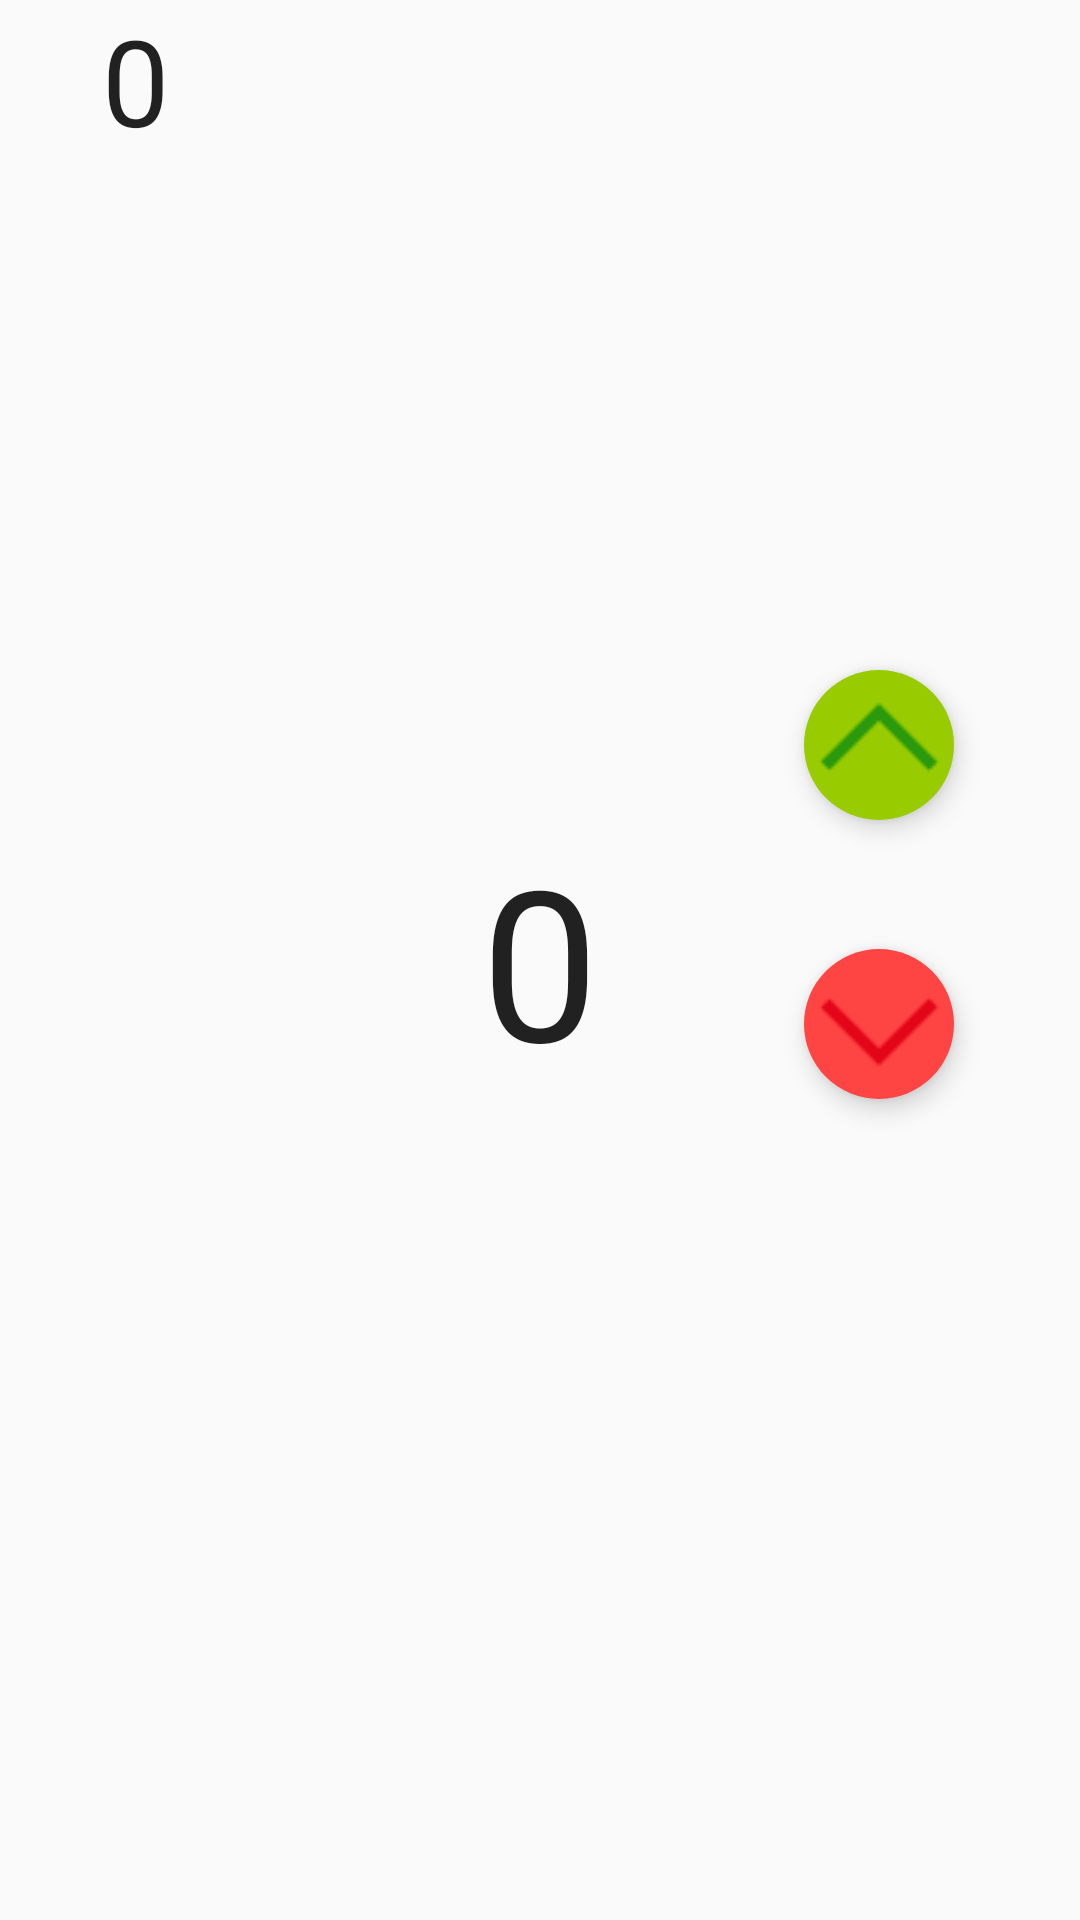

Icon click points for this 1080px x 1920px phone screenshot, format point (x, y):
bajarpunto: point (879, 1024)
subirpunto: point (879, 745)
